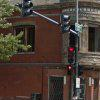Traffic light: (19, 2, 72, 36)
